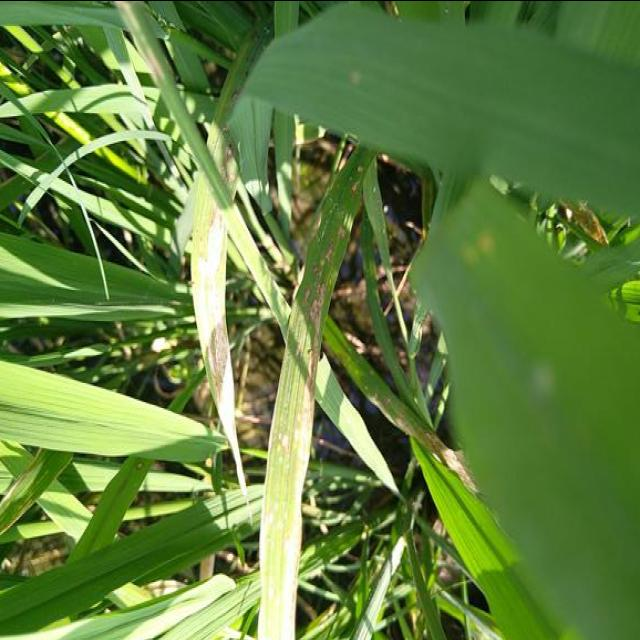Leaf Streak: (258, 143, 481, 640), (192, 171, 247, 491), (216, 16, 276, 161)
